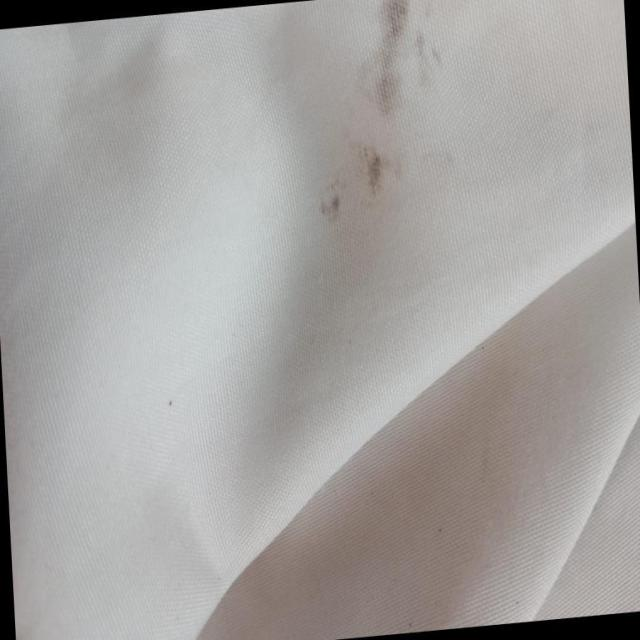stain: (304, 0, 462, 233)
